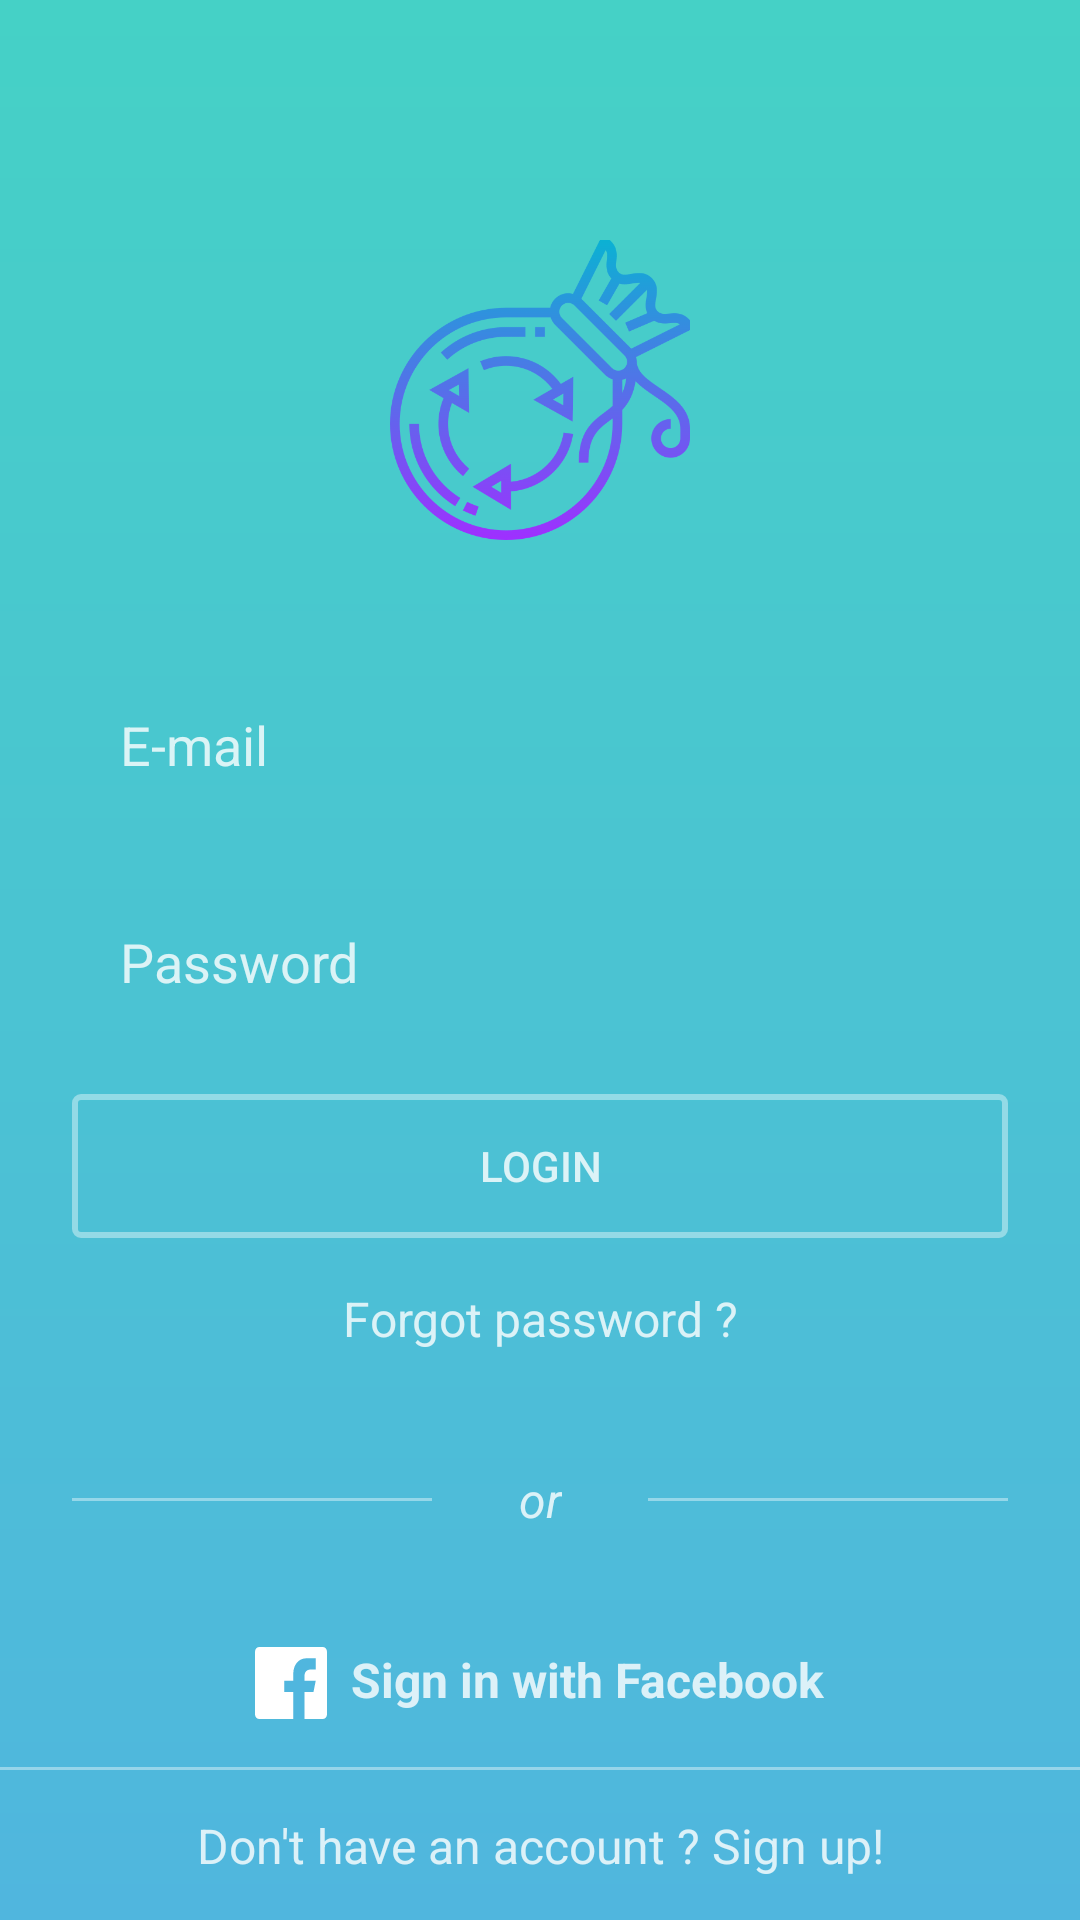

Named icons in this screenshot (1080×1920) and their bounding boxes, (x1, y1, x2, y2):
bag: (390, 240, 690, 540)
